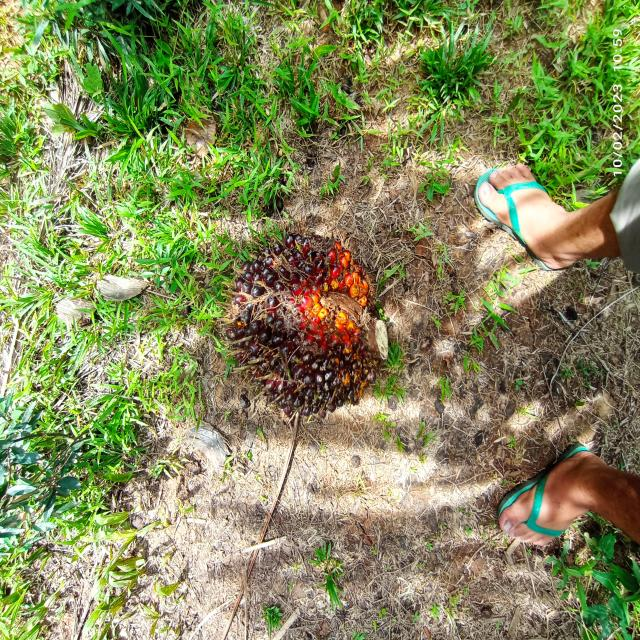fraksi 1: (178, 214, 414, 460)
